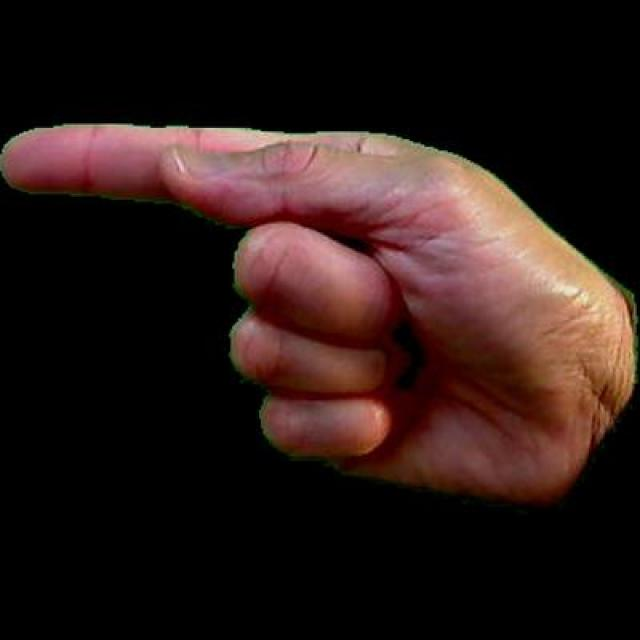g: (0, 99, 637, 522)
